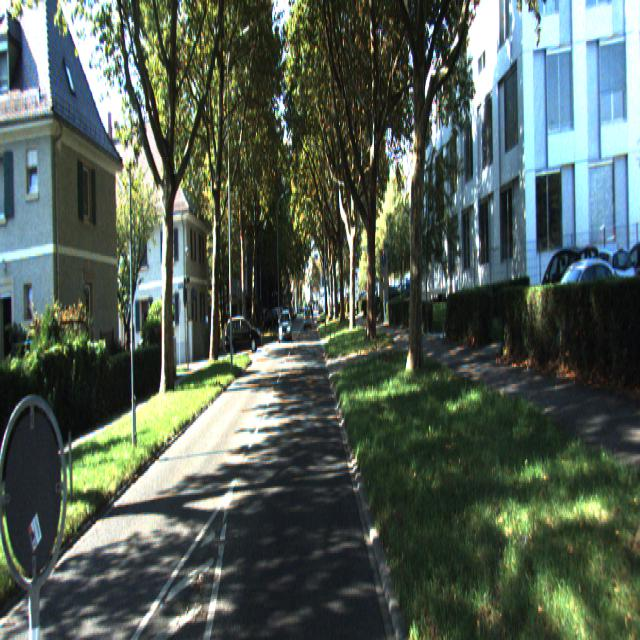Car: (225, 316, 261, 356), (278, 311, 292, 341)
